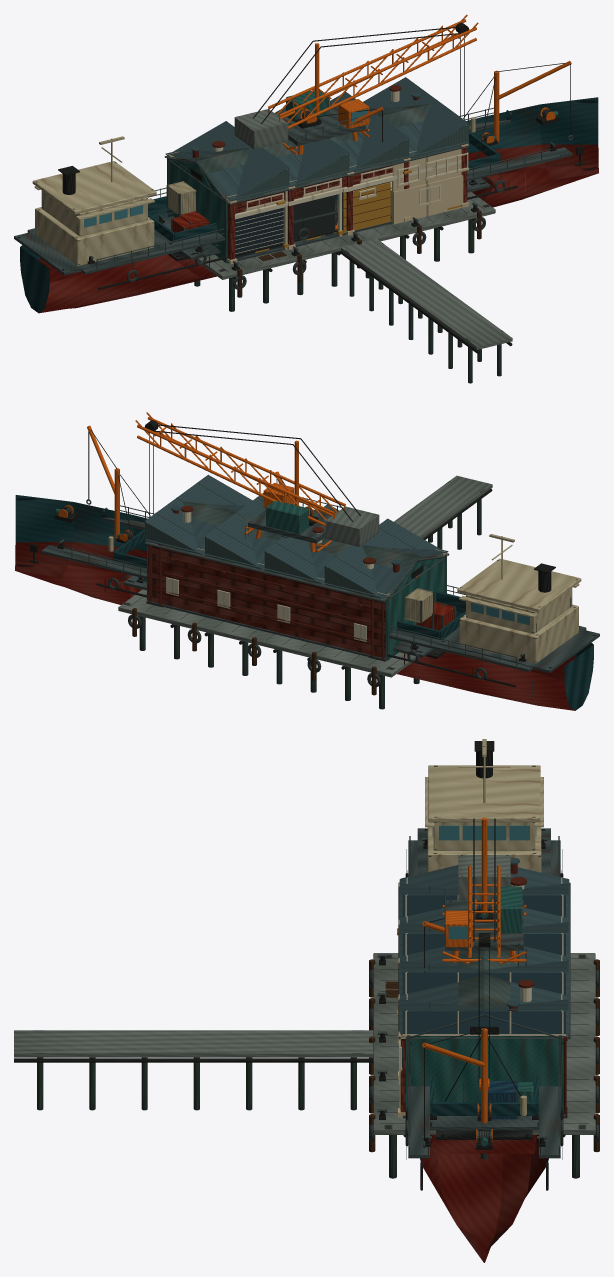
The model's file is coast-frontage.glb.
3 views of the same model, one above another, from view 1: azimuth 30°, elevation 25°; view 2: azimuth 150°, elevation 25°; view 3: azimuth 270°, elevation 25° (orthographic). The views are drawn at different scales.
Visible parts, largest first — view 1: cargo-freighter, sawtooth-maintenance-hall, loading-pier, harbor-crane, brick-repair-shed, open-warehouse, cargo-barge; view 2: cargo-freighter, brick-repair-shed, sawtooth-maintenance-hall, loading-pier, harbor-crane, open-warehouse, cargo-barge; view 3: cargo-freighter, loading-pier, sawtooth-maintenance-hall, open-warehouse, harbor-crane, brick-repair-shed, cargo-barge.
Part boxes in pixels (bbox=[...]): cargo-freighter: bbox=[14, 61, 598, 313]; sawtooth-maintenance-hall: bbox=[166, 77, 469, 263]; loading-pier: bbox=[194, 192, 512, 383]; harbor-crane: bbox=[234, 14, 478, 154]; brick-repair-shed: bbox=[165, 92, 468, 264]; open-warehouse: bbox=[164, 104, 469, 262]; cargo-barge: bbox=[154, 177, 494, 277]; cargo-freighter: bbox=[15, 425, 599, 710]; brick-repair-shed: bbox=[145, 504, 448, 660]; sawtooth-maintenance-hall: bbox=[145, 474, 446, 660]; loading-pier: bbox=[118, 475, 492, 709]; harbor-crane: bbox=[135, 412, 379, 552]; open-warehouse: bbox=[144, 501, 449, 660]; cargo-barge: bbox=[119, 575, 459, 675]; cargo-freighter: bbox=[405, 739, 563, 1262]; loading-pier: bbox=[14, 953, 599, 1178]; sawtooth-maintenance-hall: bbox=[399, 877, 568, 1117]; open-warehouse: bbox=[385, 882, 570, 1116]; harbor-crane: bbox=[442, 817, 526, 1090]; brick-repair-shed: bbox=[397, 857, 569, 1118]; cargo-barge: bbox=[430, 1082, 538, 1153].
Bounding box in the file's own units: 66 × 23.75 × 44.84.
